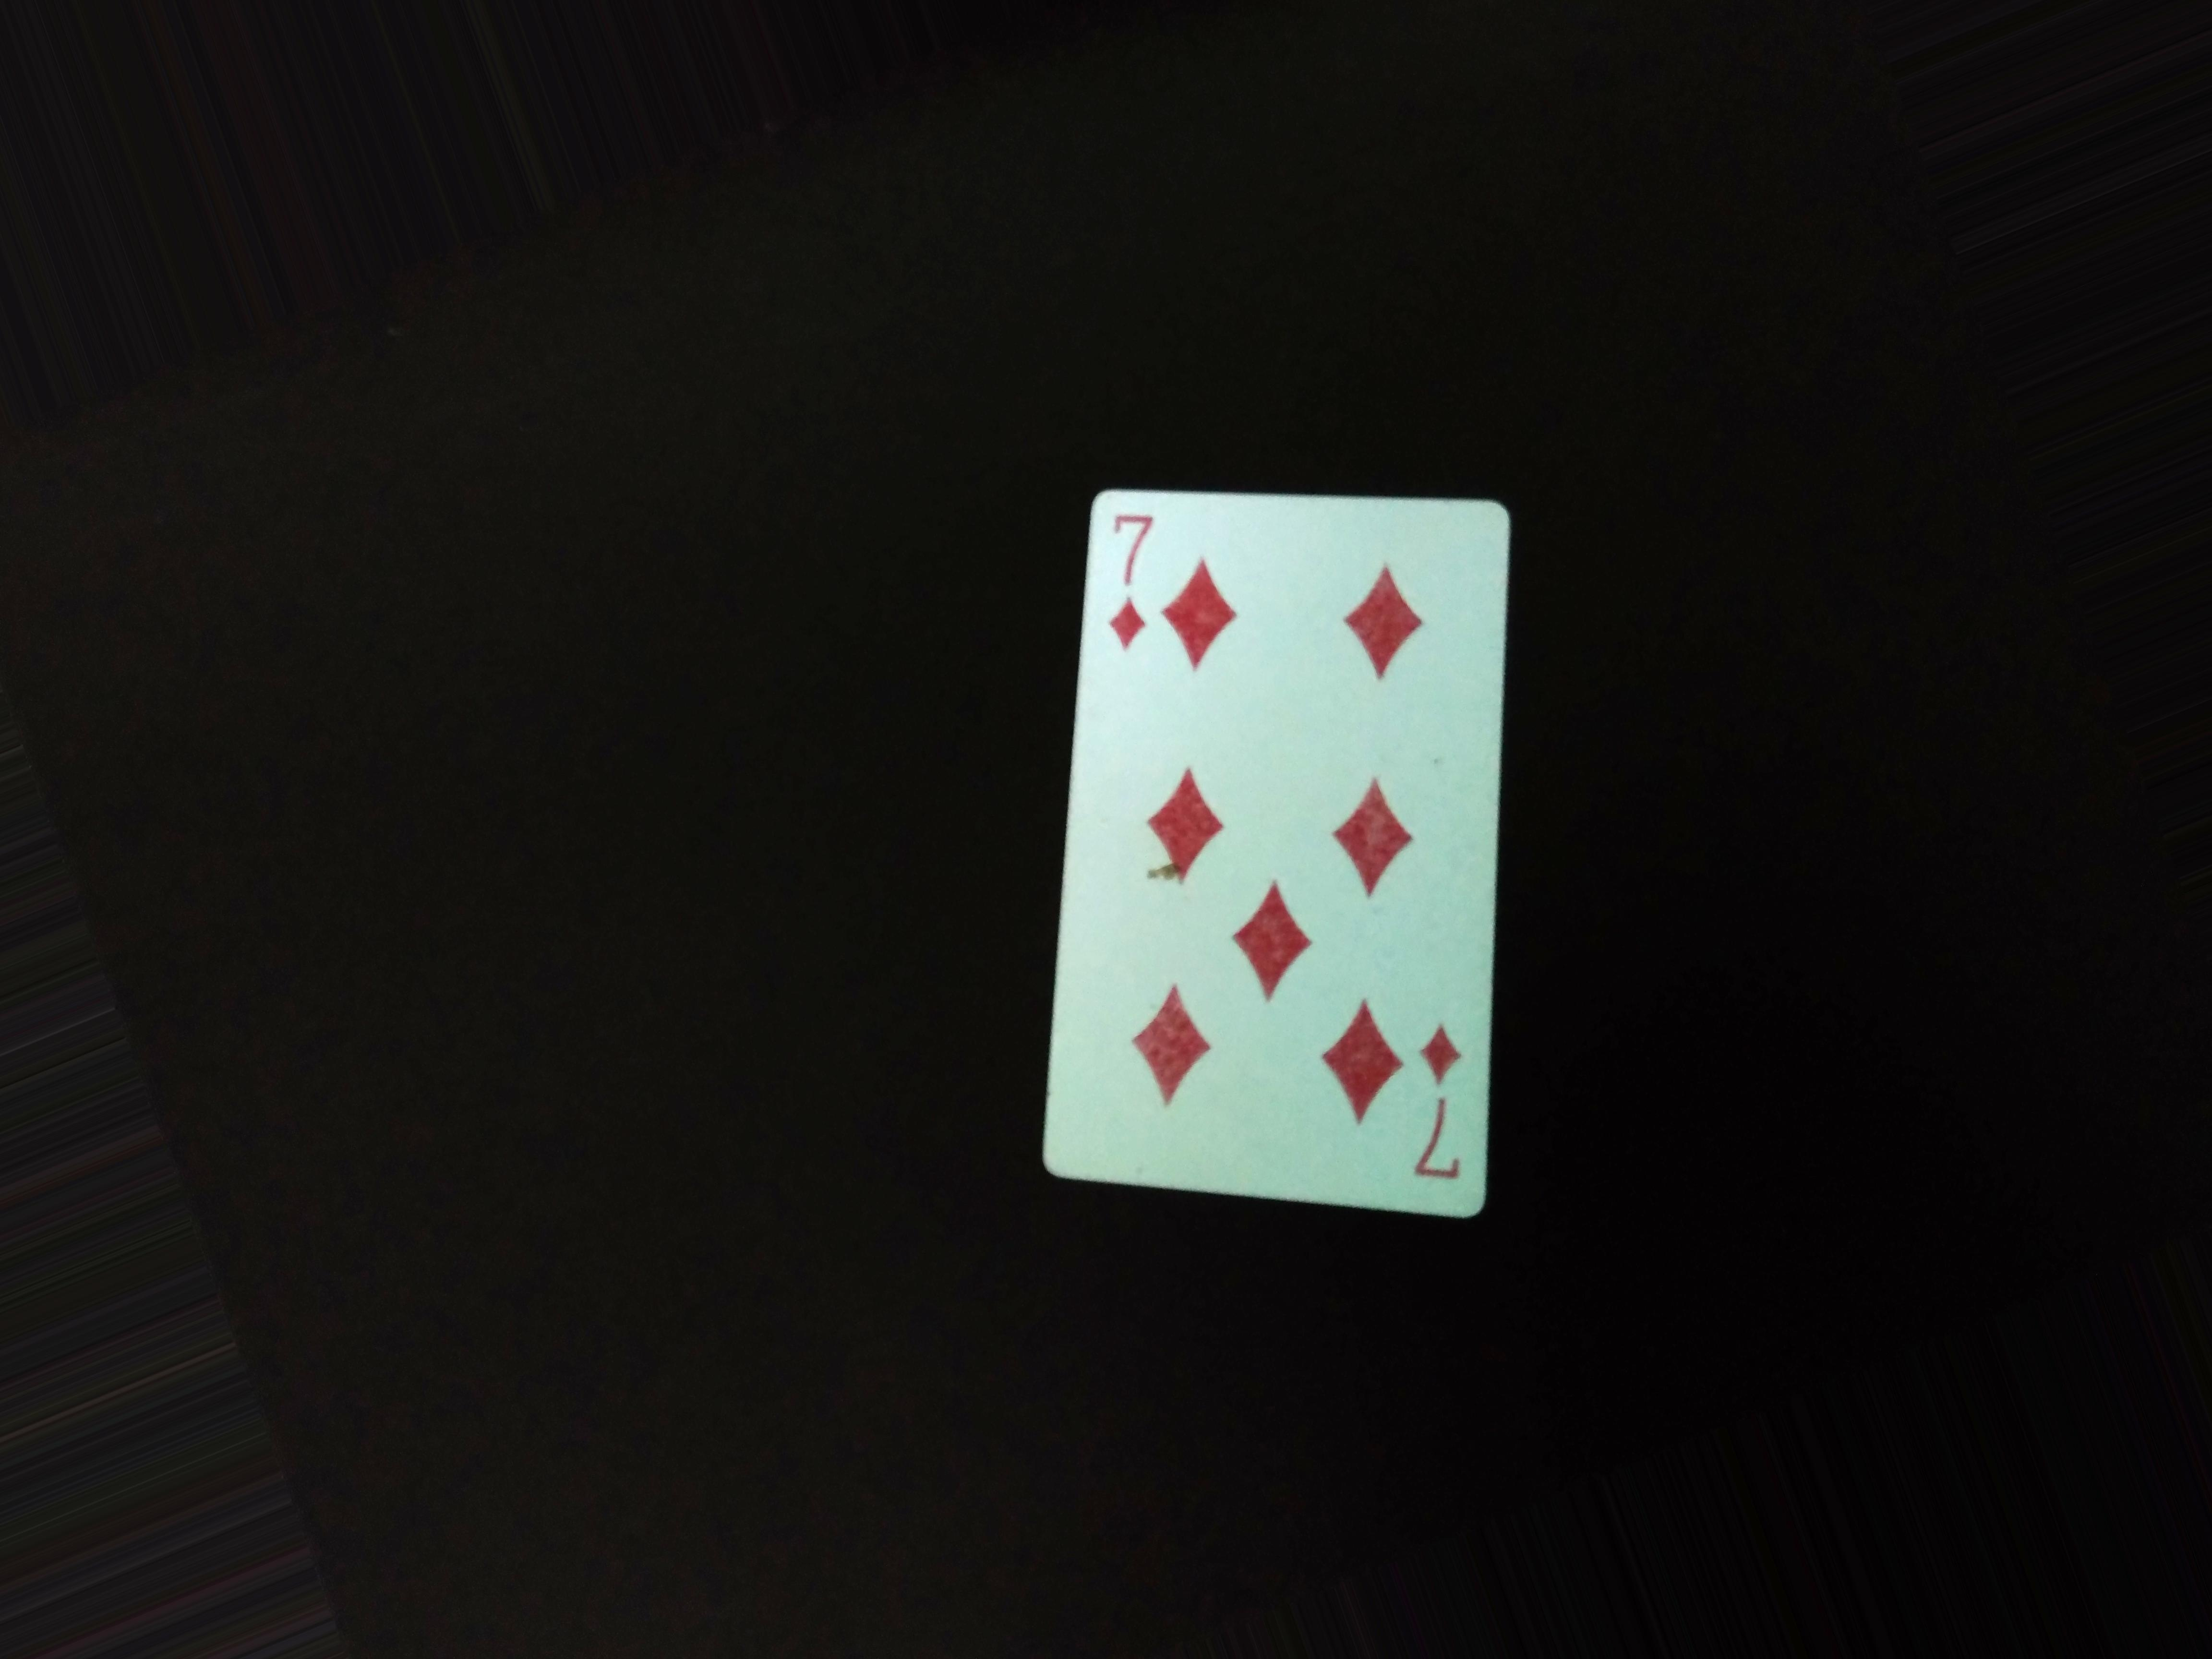7D: (1406, 1000, 1491, 1201)
